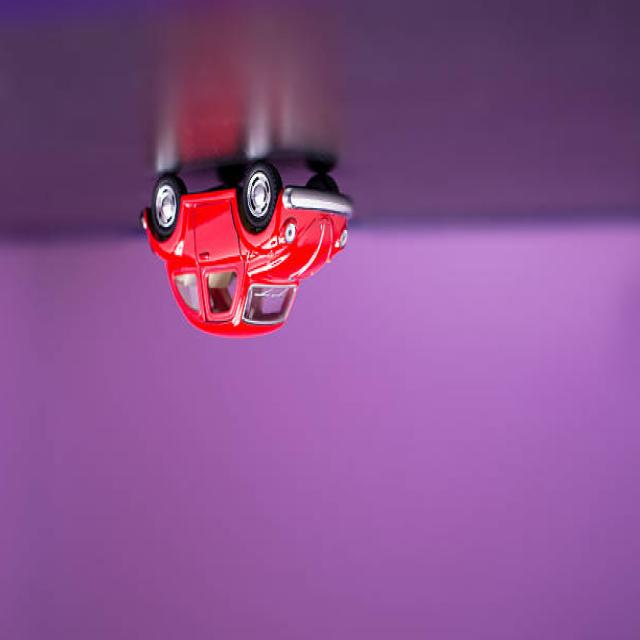Car: (142, 163, 353, 338)
